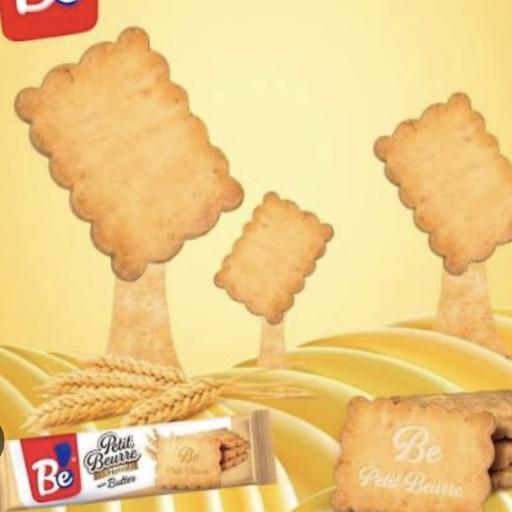petit-beurre: (4, 416, 294, 508)
